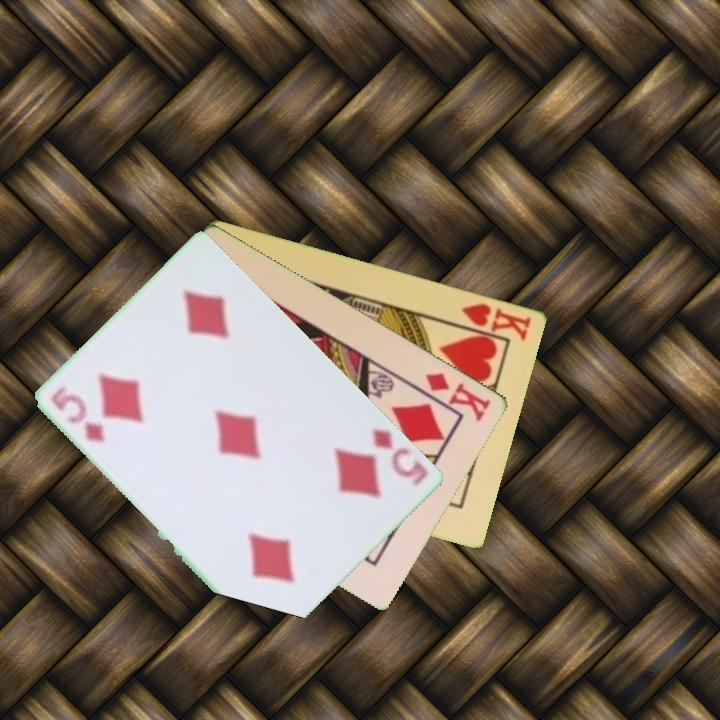5d: (369, 425, 432, 489), (47, 384, 109, 446)
Kd: (422, 369, 495, 425)
Kh: (449, 299, 535, 343)
